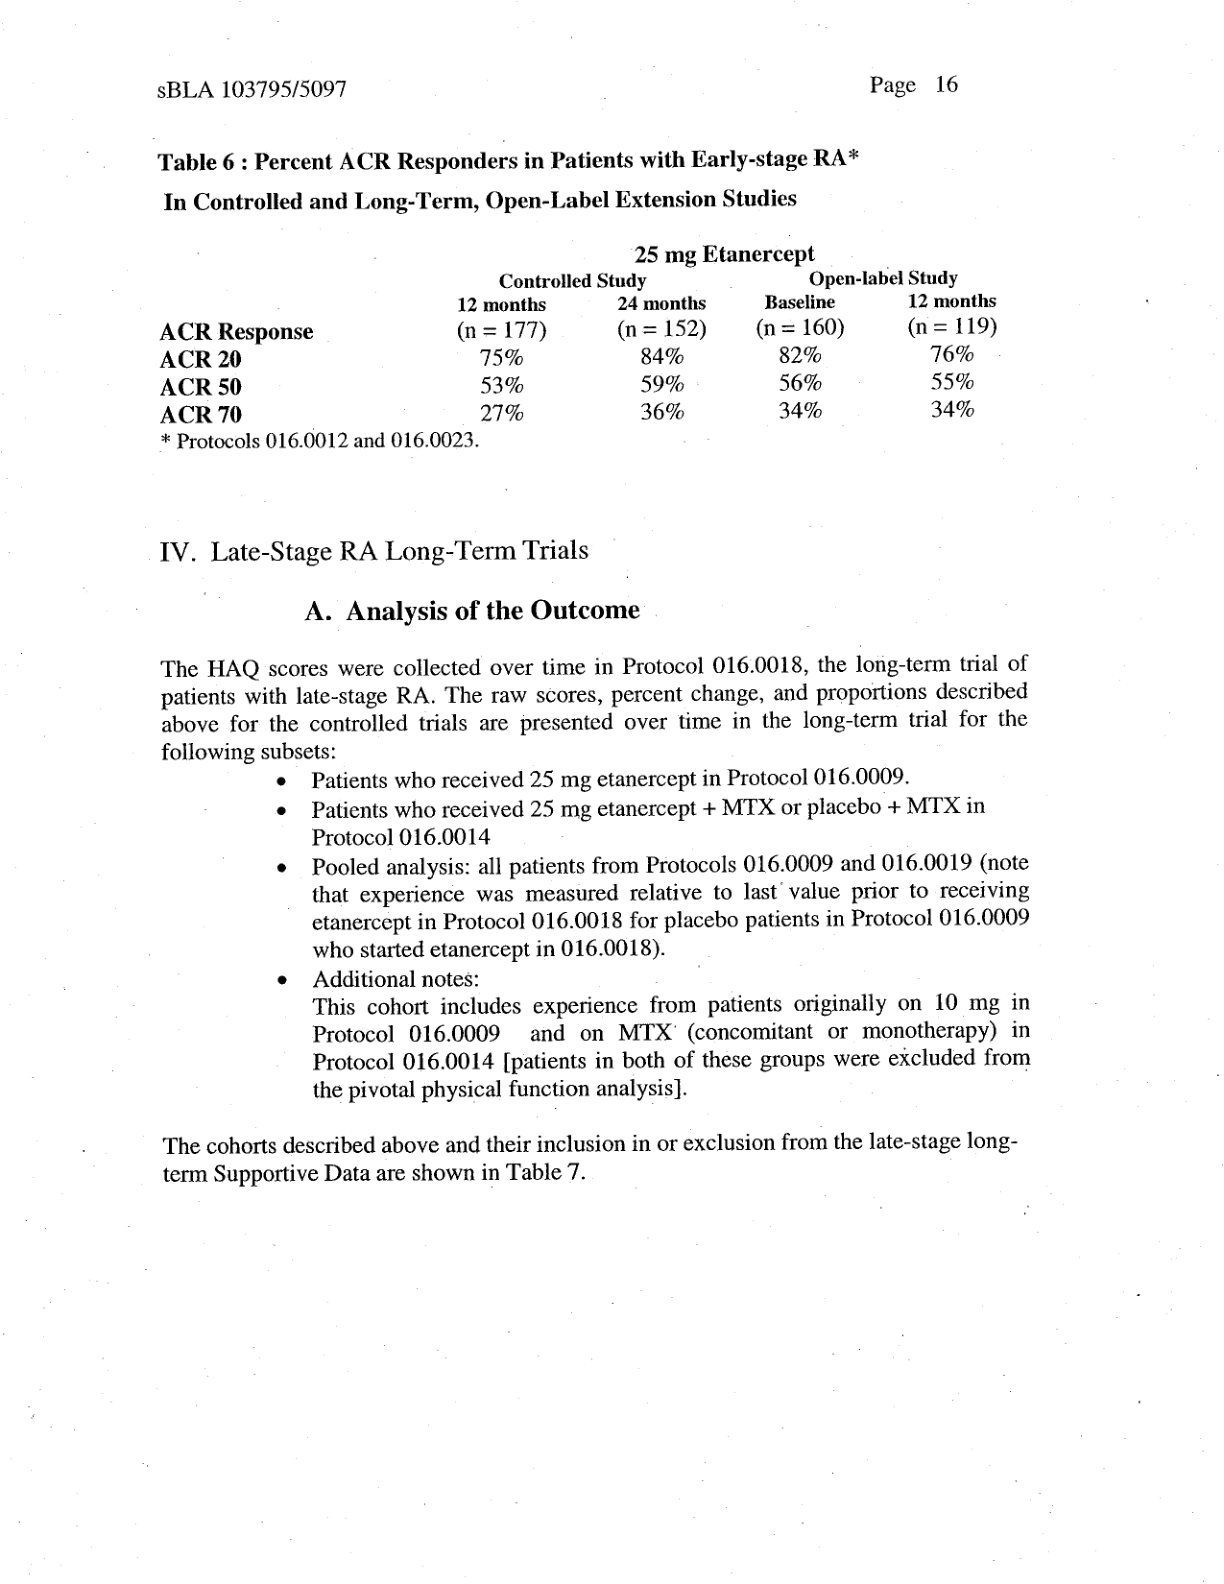nolines: (157, 267, 1002, 427)
